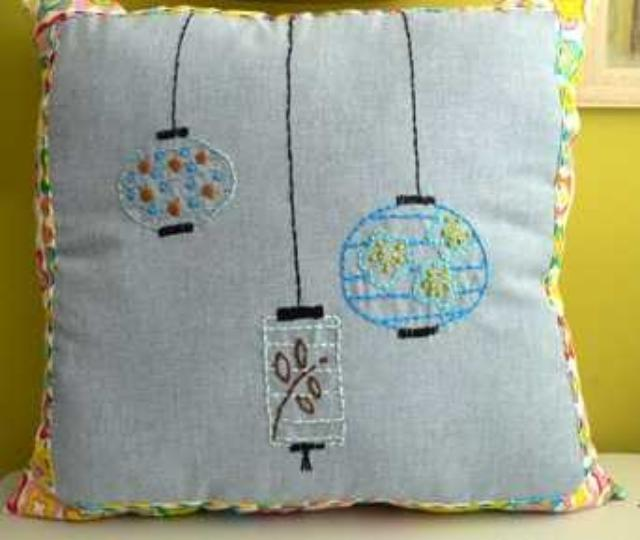pillow: (4, 2, 622, 520)
